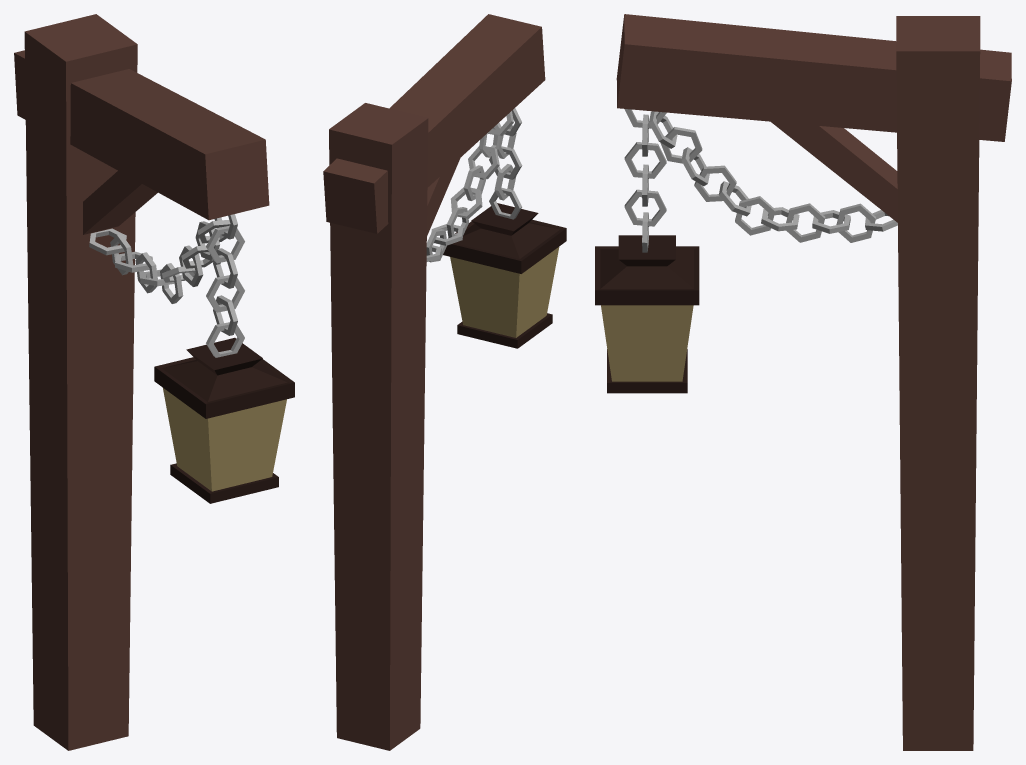
Rendered from lamp.fbx.
The picture shows the model from 3 angles, left to right: view 1: azimuth 30°, elevation 25°; view 2: azimuth 150°, elevation 25°; view 3: azimuth 270°, elevation 25°; orthographic projection. The views are drawn at different scales.
Visible parts, largest first — view 1: pCube1, pCube2, pCube4, pCube3, pPipe5, pPipe2, pPipe3, pPipe17, pPipe4, pPipe6; view 2: pCube1, pCube2, pCube4, pCube3, pPipe5, pPipe10, pPipe11; view 3: pCube1, pCube2, pCube4, pCube3, pPipe4.
Part boxes in pixels (x1,y1,x2,y2): pCube1: (24,14,137,750); pCube2: (14,50,269,220); pCube4: (154,337,294,503); pCube3: (83,171,157,234); pPipe5: (206,322,244,357); pPipe2: (206,225,244,263); pPipe3: (206,275,244,312); pPipe17: (89,228,126,255); pPipe4: (213,248,237,288); pPipe6: (213,295,237,335); pCube1: (329,103,428,750); pCube2: (323,14,545,233); pCube4: (443,203,566,348); pCube3: (427,158,460,235); pPipe5: (489,187,521,219); pPipe10: (468,146,499,179); pPipe11: (450,187,482,218); pCube1: (896,16,980,750); pCube2: (616,14,1011,141); pCube4: (595,235,699,393); pCube3: (771,121,897,222); pPipe4: (624,142,666,178).
Size of the model in its own units: 1.48 by 11.07 by 5.91.
